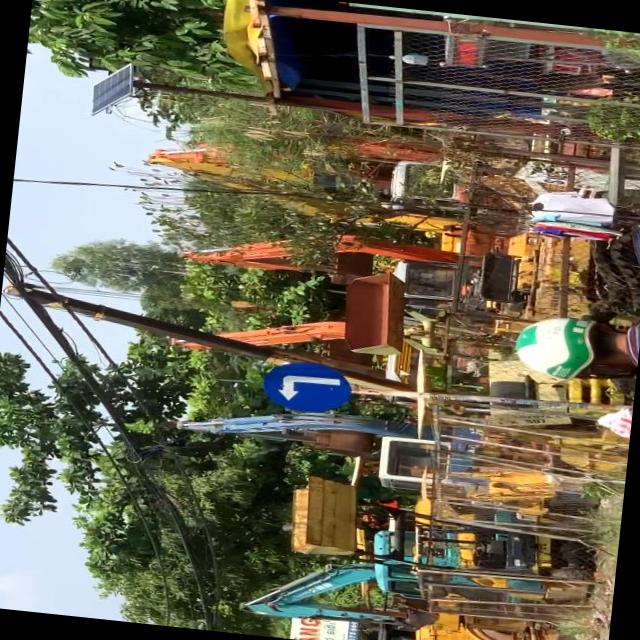R-301e: (262, 360, 352, 414)
